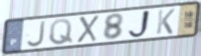8: (102, 12, 126, 42)
J: (126, 9, 152, 40), (25, 19, 47, 48)
K: (155, 8, 177, 36)
Q: (48, 18, 74, 46)
X: (76, 14, 100, 44)
